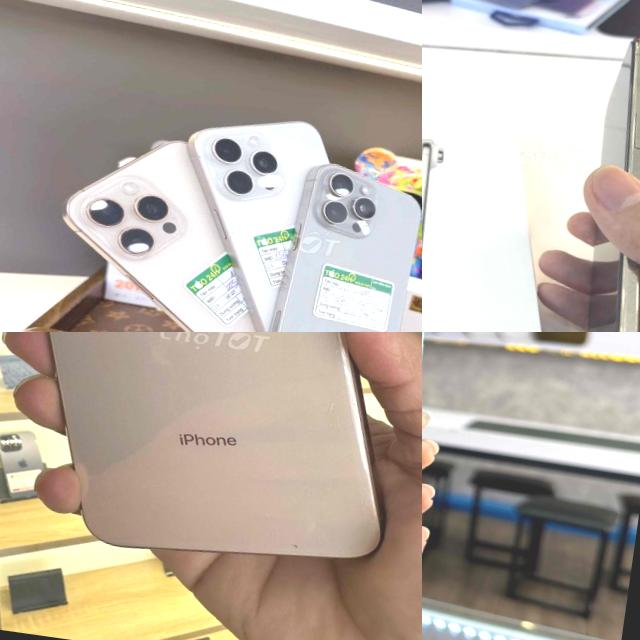gen_16: (256, 150, 422, 332)
gen_17: (553, 17, 640, 332)
gen_x_xs: (49, 332, 380, 557)
